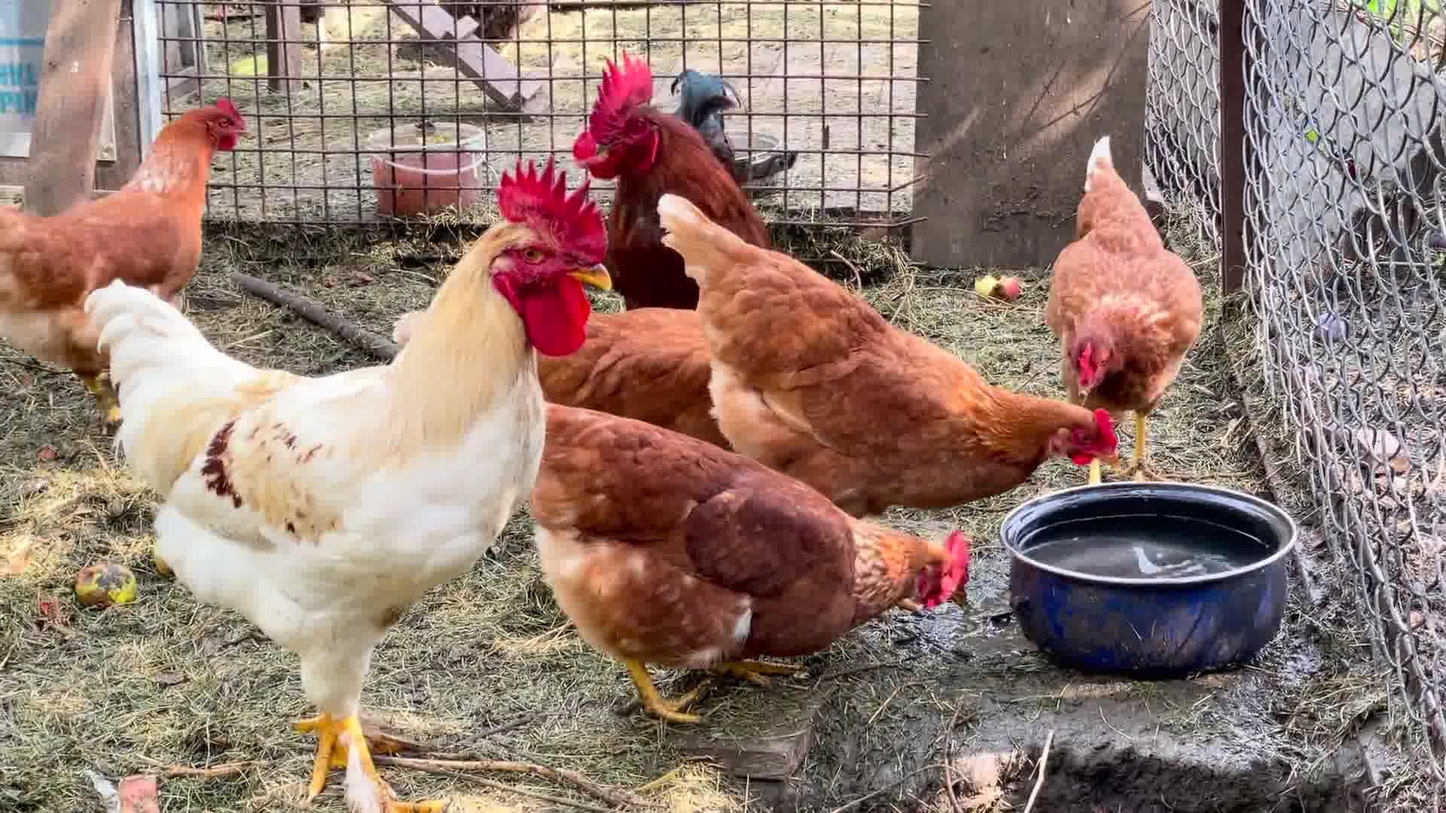Normal: (117, 172, 616, 810), (652, 194, 1125, 508), (539, 394, 977, 729), (1006, 113, 1257, 480), (0, 89, 274, 396), (546, 36, 786, 306)
